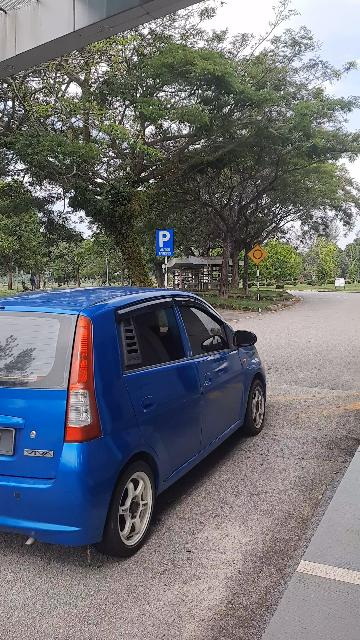car: (2, 284, 273, 554)
